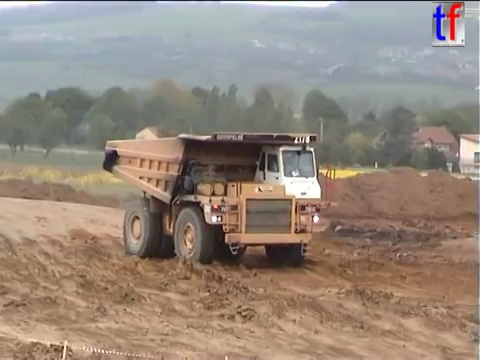truck: (100, 130, 336, 269)
